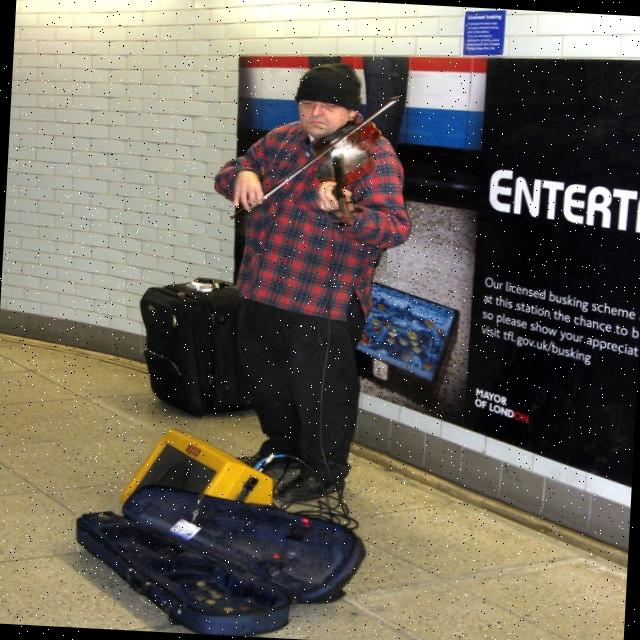violin: (306, 114, 388, 223)
